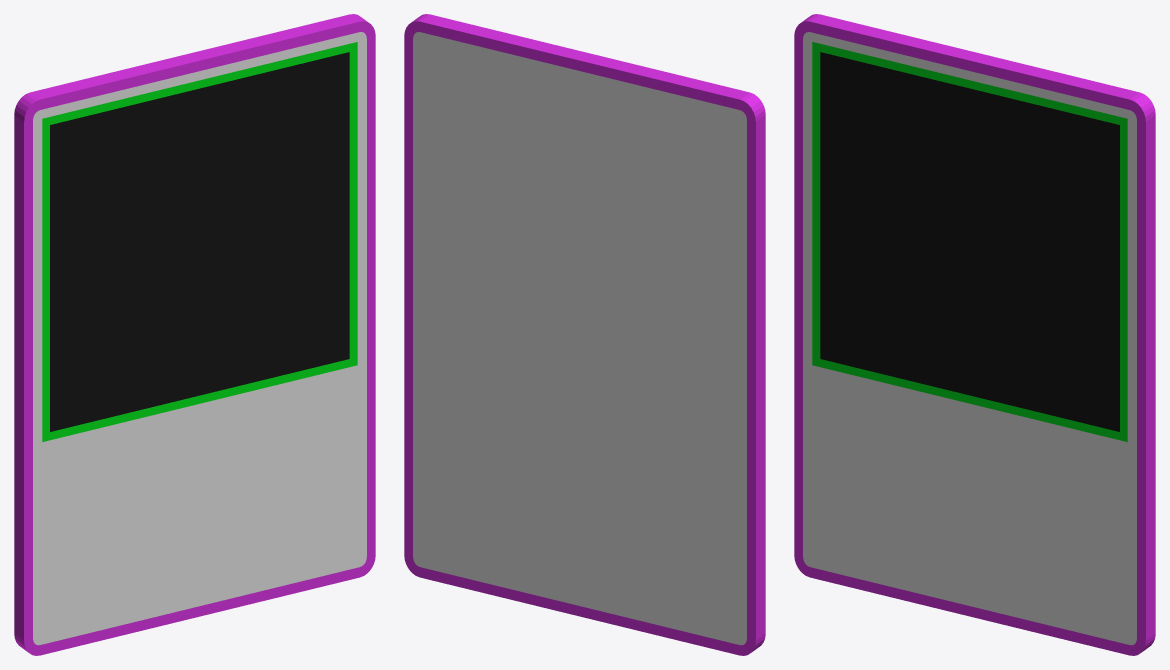
The model's file is card.fbx.
The picture shows the model from 3 angles, left to right: view 1: azimuth 30°, elevation 25°; view 2: azimuth 150°, elevation 25°; view 3: azimuth 330°, elevation 25°; orthographic projection.
Visible parts, largest first — view 1: Card; view 2: Card; view 3: Card.
Boxes of the visible parts, bbox=[...] form: Card: bbox=[14, 14, 375, 655]; Card: bbox=[404, 14, 765, 655]; Card: bbox=[794, 14, 1155, 655].
Size of the model in its own units: 5.65 by 8.54 by 0.276.
